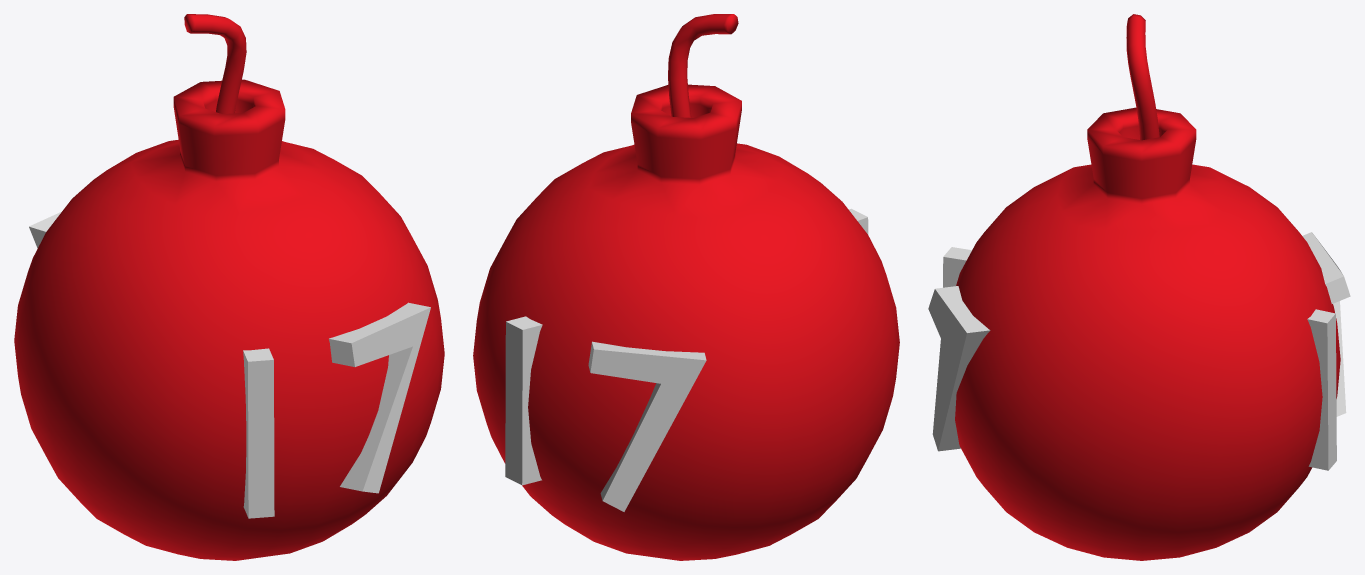
The model's file is Bomb_17.fbx.
3 views of the same model, side by side, from view 1: azimuth 30°, elevation 25°; view 2: azimuth 150°, elevation 25°; view 3: azimuth 270°, elevation 25° (orthographic). The views are drawn at different scales.
Visible parts, largest first — view 1: Bomb; view 2: Bomb; view 3: Bomb.
Part boxes in pixels (x1,y1,x2,y2): Bomb: (14,14,444,560); Bomb: (473,14,899,560); Bomb: (928,14,1350,560).
Bounding box in the file's own units: 30 × 42.11 × 31.87.
